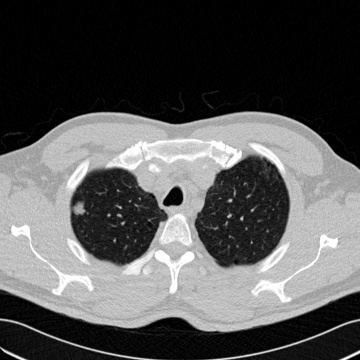PN: (73, 202, 85, 214)
